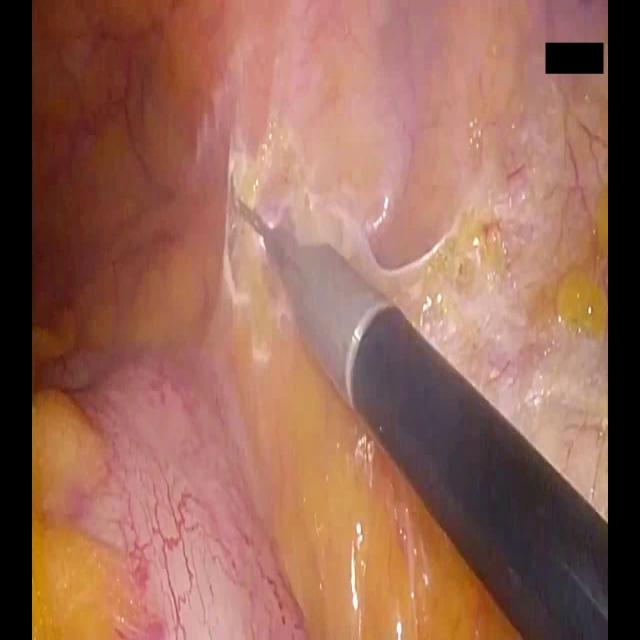surgical-area: (32, 0, 608, 639)
surgical-tool: (235, 197, 608, 639)
